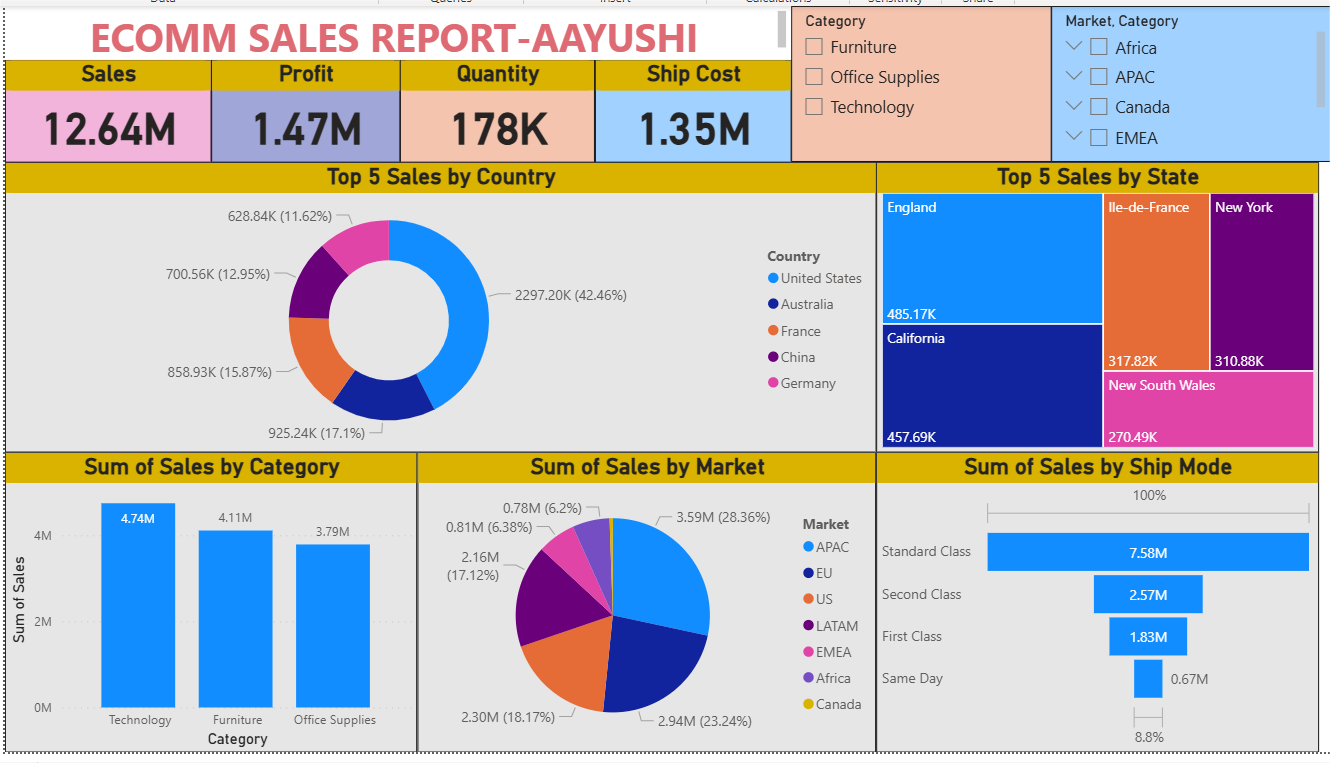

This screenshot's page, from the dashboard's own definition file:
{"tool":"powerbi","page":{"name":"Page 1","canvas":[1280,720],"ordinal":0},"visuals":[{"type":"columnChart","fields":{"Category":["Orders.Category"],"Y":["Orders.Sales"]},"box":[0,430.6,398,289.4],"z":0},{"type":"pieChart","fields":{"Y":["Orders.Sales"],"Category":["Orders.Market"]},"box":[398,430.6,442.6,289.4],"z":1000},{"type":"funnel","fields":{"Category":["Orders.Ship Mode"],"Y":["Orders.Sales"]},"box":[840.6,430.6,426.9,289.4],"z":2000},{"type":"donutChart","title":"Top  5 Sales by Country","fields":{"Category":["Orders.Country"],"Y":["Orders.Sales"]},"box":[0,150.8,840.6,279.8],"z":3000},{"type":"treemap","title":"Top 5 Sales by State","fields":{"Group":["Orders.State"],"Values":["Orders.Sales"]},"box":[840.6,150.8,426.9,279.8],"z":4000},{"type":"card","title":"Sales","fields":{"Values":["Orders.Sales"]},"box":[0,51.9,199,98.9],"z":5000},{"type":"card","title":"Profit","fields":{"Values":["Orders.Profit"]},"box":[199,51.9,182.1,98.9],"z":6000},{"type":"card","title":"Quantity","fields":{"Values":["Orders.Quantity"]},"box":[381.1,51.9,188.1,98.9],"z":7000},{"type":"card","title":"Ship Cost","fields":{"Values":["Orders.Shipping Cost"]},"box":[569.2,51.9,189.3,98.9],"z":8000},{"type":"slicer","fields":{"Values":["Orders.Category"]},"box":[758.6,0,250.9,150.8],"z":9000},{"type":"slicer","fields":{"Values":["Orders.Market","Orders.Category"]},"box":[1009.4,0,270.2,150.8],"z":10000},{"type":"textbox","box":[0,0,758.6,51.9],"z":11000}]}

Visuals, with their boxes in screenshot pixels (x1, y1, x2, y2):
columnChart - Orders.Category x Orders.Sales: left=14, top=448, right=422, bottom=745
pieChart - Orders.Sales x Orders.Market: left=422, top=448, right=875, bottom=745
funnel - Orders.Ship Mode x Orders.Sales: left=875, top=448, right=1313, bottom=745
"Top  5 Sales by Country" donutChart: left=14, top=161, right=875, bottom=448
"Top 5 Sales by State" treemap: left=875, top=161, right=1313, bottom=448
"Sales" card: left=14, top=60, right=218, bottom=161
"Profit" card: left=218, top=60, right=404, bottom=161
"Quantity" card: left=404, top=60, right=597, bottom=161
"Ship Cost" card: left=597, top=60, right=791, bottom=161
slicer - Orders.Category: left=791, top=7, right=1048, bottom=161
slicer - Orders.Market x Orders.Category: left=1048, top=7, right=1325, bottom=161
textbox: left=14, top=7, right=791, bottom=60
